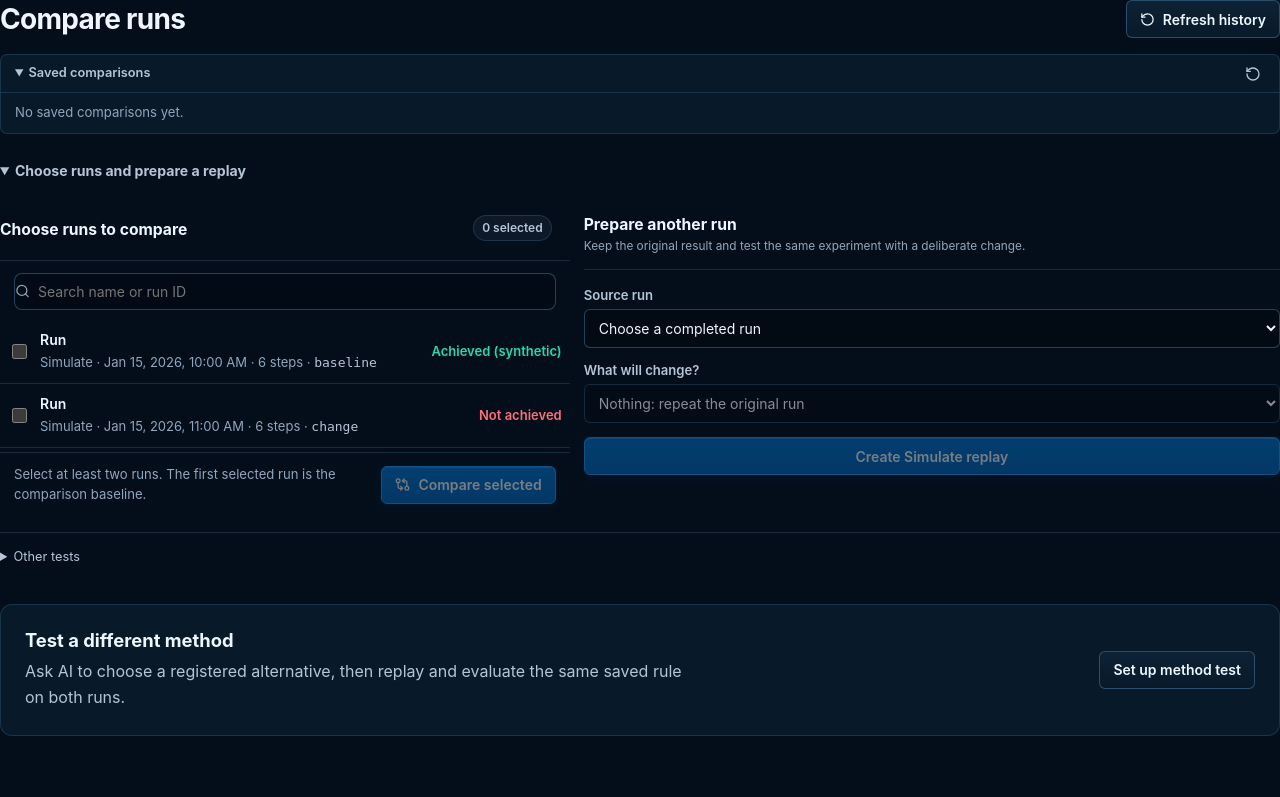
reports a comparison whose returned run identities do not match the request
Expected: the heading "Compare runs" is shown, [0,2,185,36]
Click the 1st checkbox at (20, 351), box [12,344,27,359]
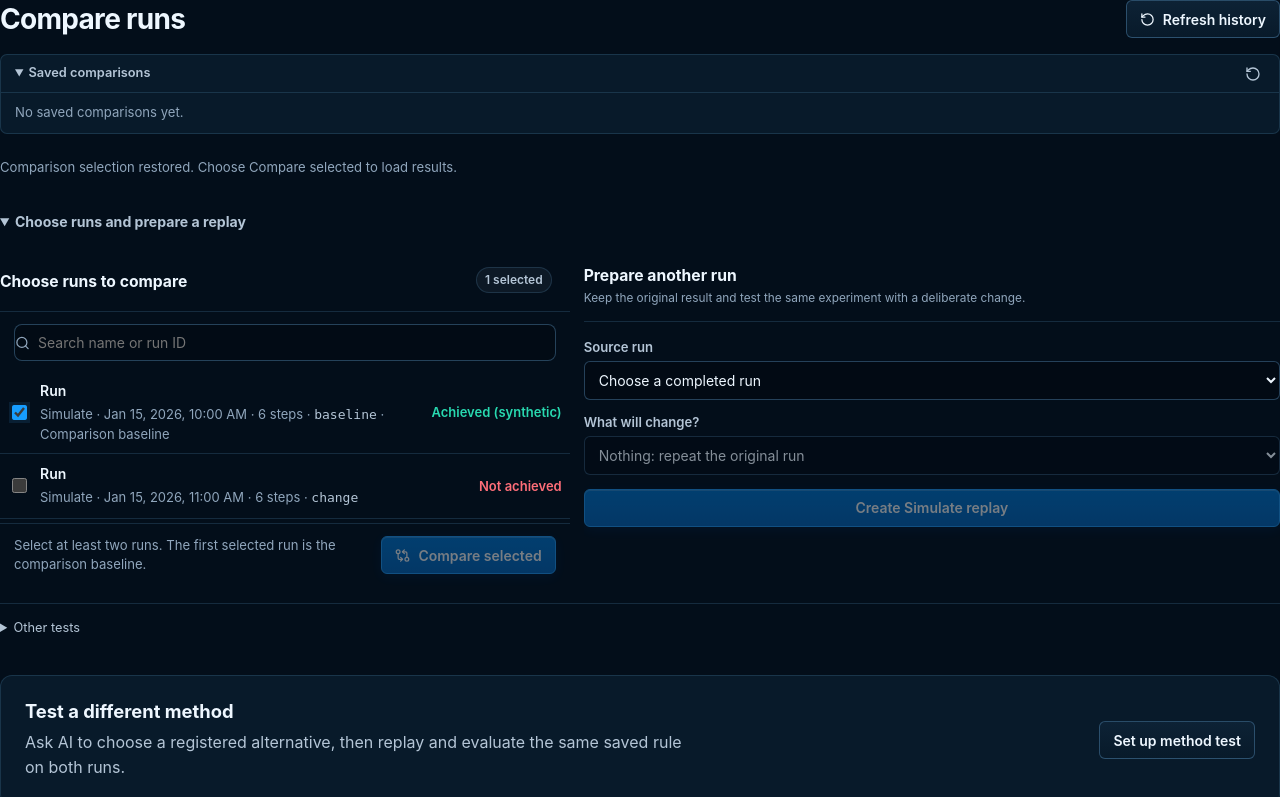
Click the 2nd checkbox at (20, 486), box [12,478,27,493]
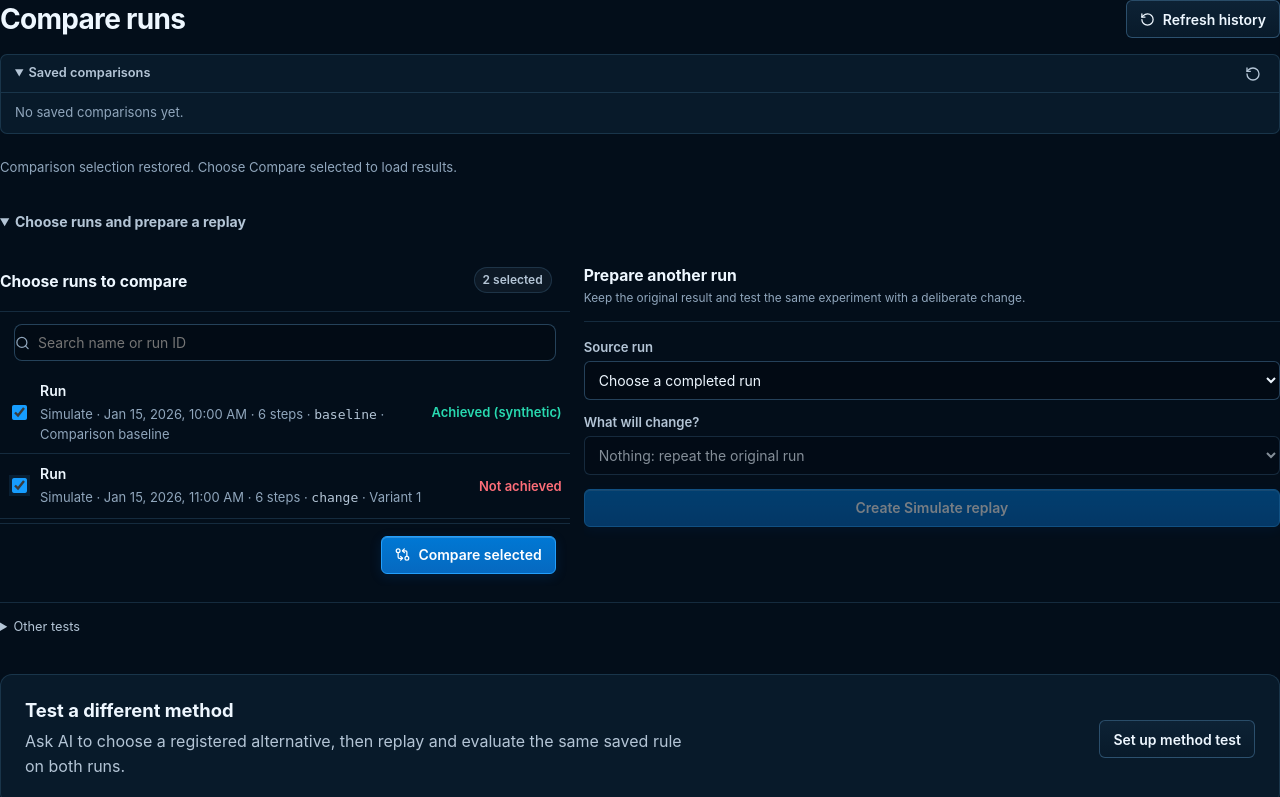
Click the button "Compare selected" at (469, 554), box [381,536,556,574]
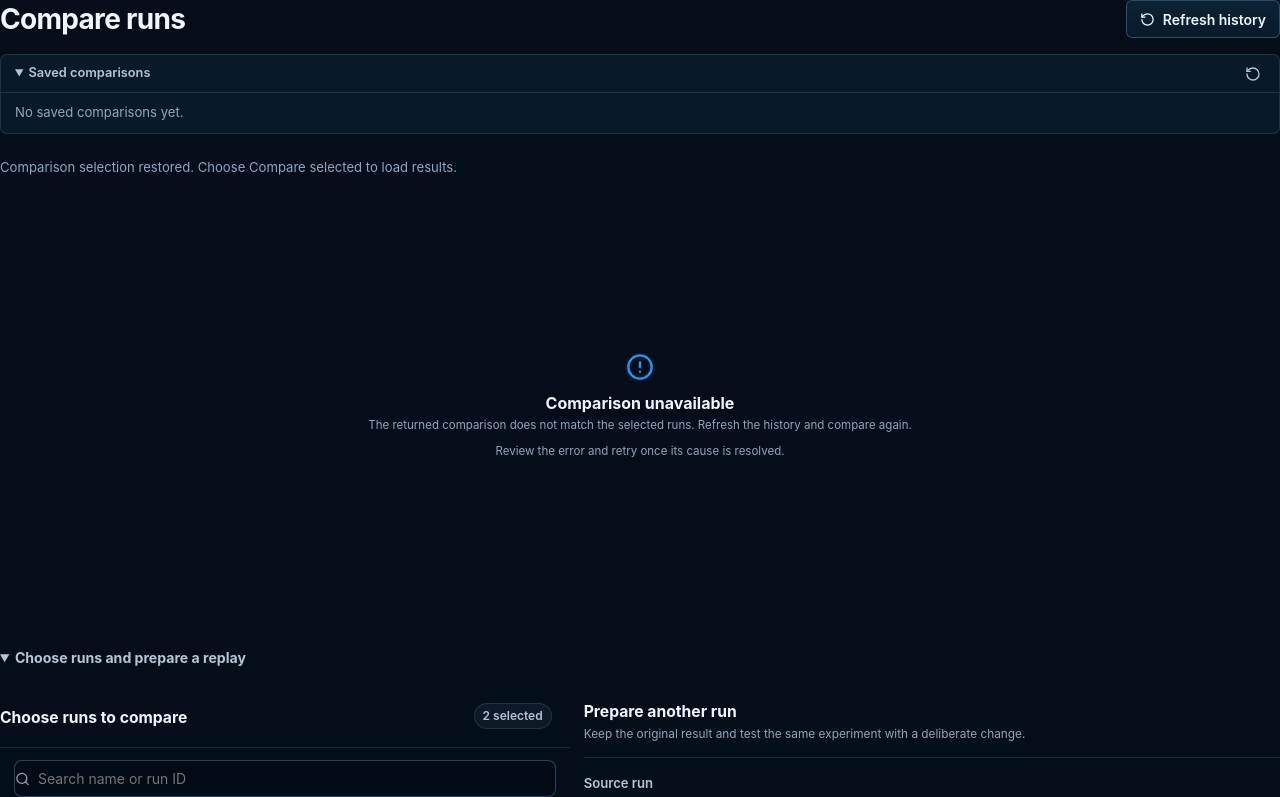
Now the text "returned comparison does not match" is shown, box [368,418,912,432]
